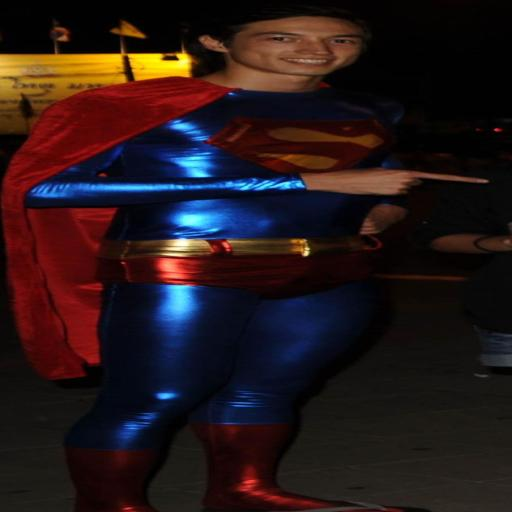person: (5, 5, 484, 511), (418, 164, 511, 374)
